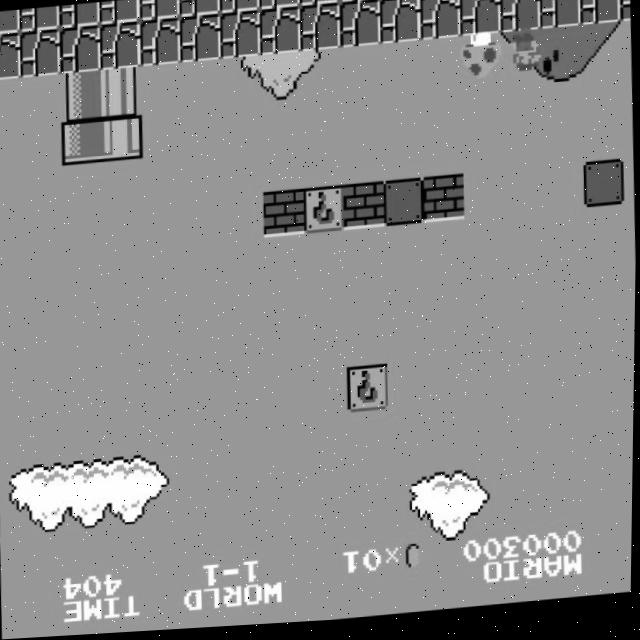1- brick_block: (422, 179, 466, 228), (343, 185, 386, 234), (263, 192, 306, 241)
11- little_mario: (502, 32, 547, 84)
12- mushroom: (460, 35, 505, 88)
13- mystery_block: (346, 368, 390, 416), (303, 188, 346, 237)
14- pipe: (99, 68, 143, 117), (59, 71, 103, 120)
15- pipe_head: (100, 113, 144, 162), (61, 117, 104, 166)
17- undestructible_block: (338, 3, 382, 52), (298, 6, 342, 55), (258, 9, 302, 58), (218, 12, 262, 61), (178, 16, 222, 65), (138, 19, 182, 68), (98, 22, 142, 71), (58, 25, 102, 74), (18, 29, 62, 78), (378, 0, 422, 48), (418, 0, 462, 45), (458, 0, 502, 42), (498, 0, 542, 39), (538, 0, 582, 35), (578, 0, 621, 32), (98, 0, 140, 26), (58, 3, 100, 29), (18, 6, 60, 32), (0, 32, 21, 80), (138, 0, 180, 23), (178, 0, 220, 19), (218, 0, 260, 16), (258, 0, 300, 12), (0, 9, 20, 34), (298, 0, 340, 9), (618, 0, 631, 29), (338, 0, 380, 6), (378, 0, 420, 2)
3- empty_block: (582, 166, 626, 215), (383, 182, 426, 231)
